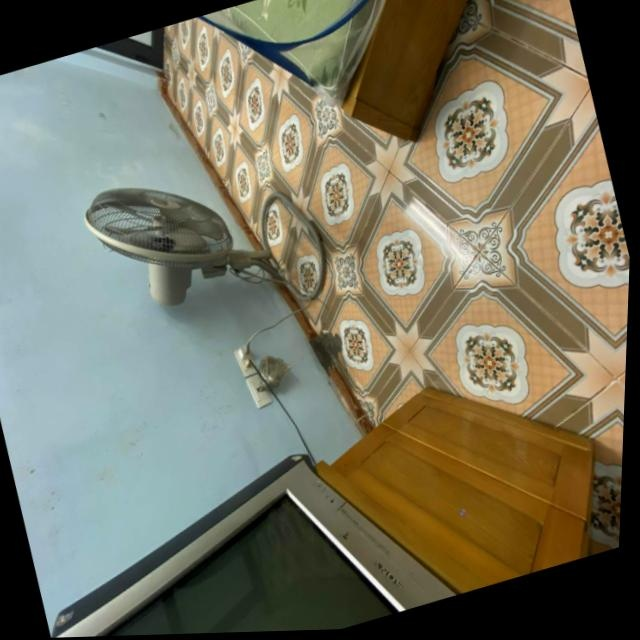outlet: (244, 370, 274, 409), (231, 342, 261, 379)
